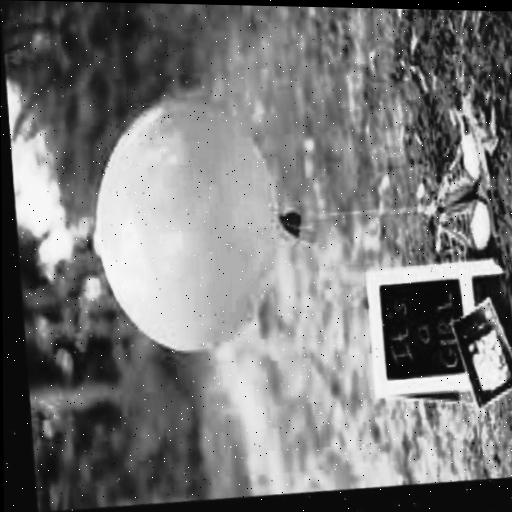balloon: (76, 90, 284, 373)
